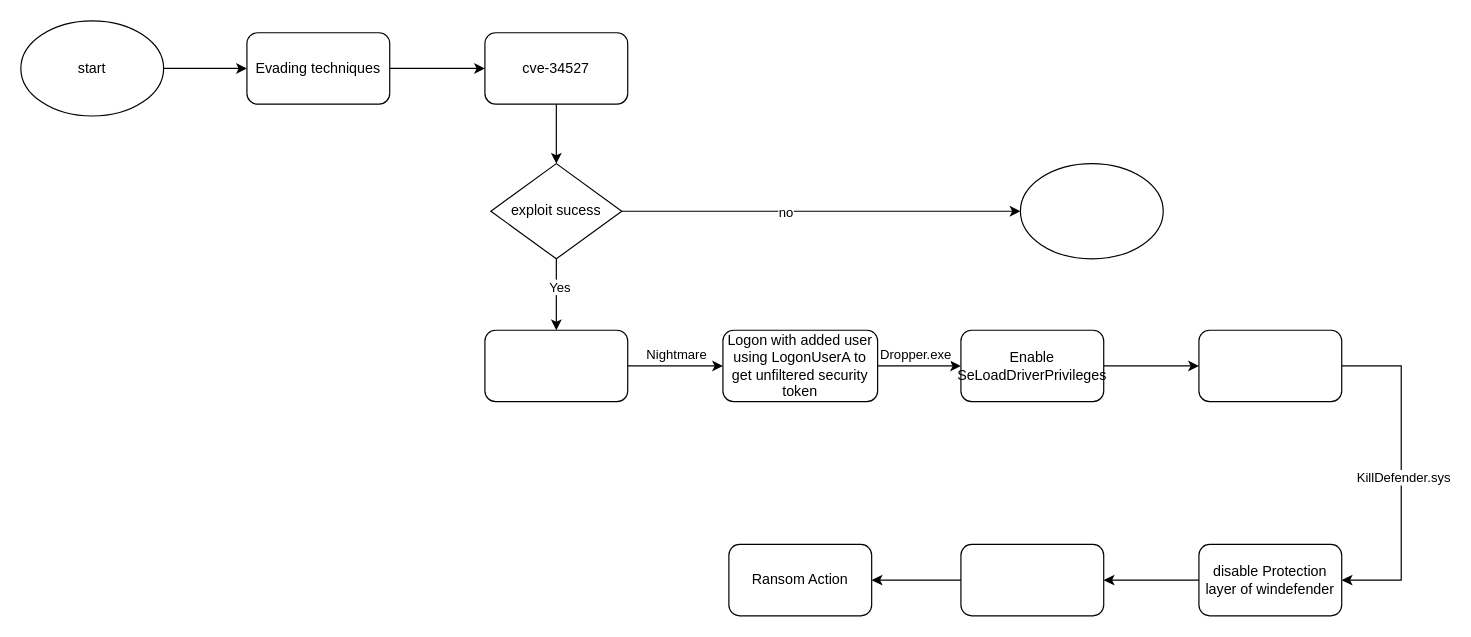
Image size: 1471x637. Some labels were removed from this diagram. The box of each missing label's shape, as (x1, y1, x2, y2) in pixels:
Add new administrator user: (484, 329, 628, 402)
end: (1019, 162, 1163, 259)
NtTermintateProcess: (960, 543, 1104, 616)
Start root kit service: (1198, 329, 1342, 402)
